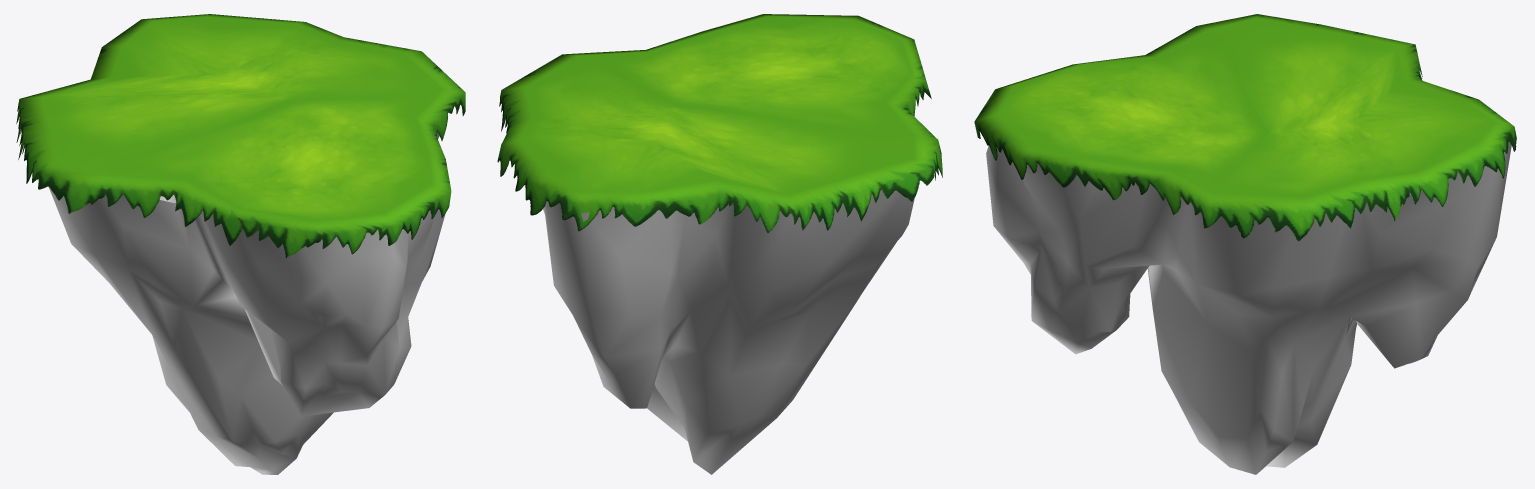
Rendered from Island_Small_11.fbx.
3 renders of one model, left to right at view 1: azimuth 30°, elevation 25°; view 2: azimuth 150°, elevation 25°; view 3: azimuth 270°, elevation 25°, orthographic. The views are drawn at different scales.
Parts seen in each view (by area): view 1: Island_Small_11; view 2: Island_Small_11; view 3: Island_Small_11.
Part boxes in pixels (x1,y1,x2,y2): Island_Small_11: [16, 14, 465, 474]; Island_Small_11: [497, 14, 942, 474]; Island_Small_11: [974, 14, 1516, 474].
Size of the model in its own units: 227 by 186 by 257.
